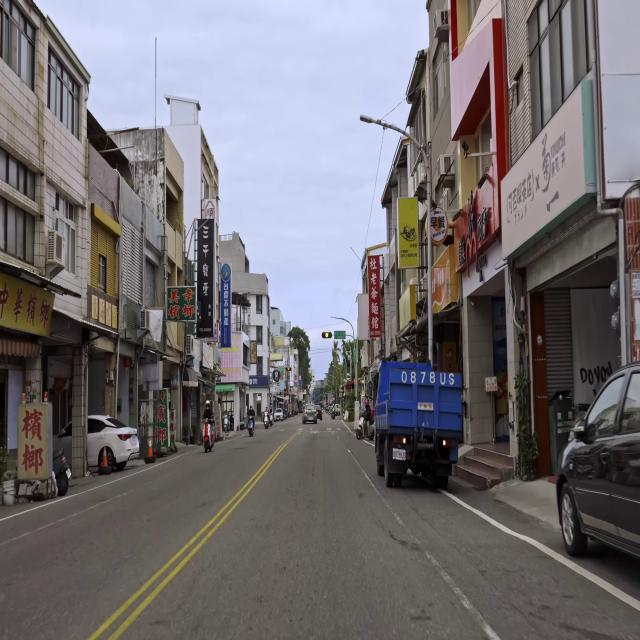yellow light: (322, 332, 332, 339), (285, 367, 292, 372)
